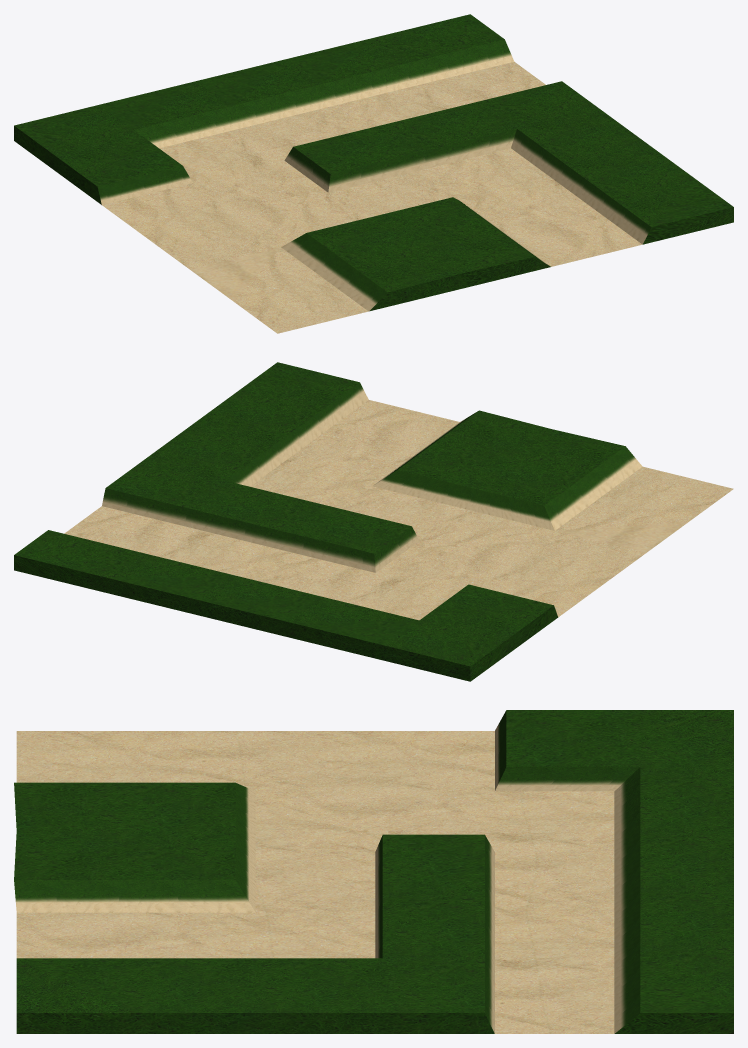
Rendered from level_01.fbx.
3 views of the same model, one above another, from view 1: azimuth 30°, elevation 25°; view 2: azimuth 150°, elevation 25°; view 3: azimuth 270°, elevation 25° (orthographic). The views are drawn at different scales.
Visible parts, largest first — view 1: Grid; view 2: Grid; view 3: Grid.
Part boxes in pixels (x1=…): Grid: x1=14, y1=14, x2=733, y2=333; Grid: x1=14, y1=362, x2=733, y2=681; Grid: x1=14, y1=710, x2=733, y2=1033.
Size of the model in its own units: 4000 by 128 by 4015.
3 materials, 3 textured.
